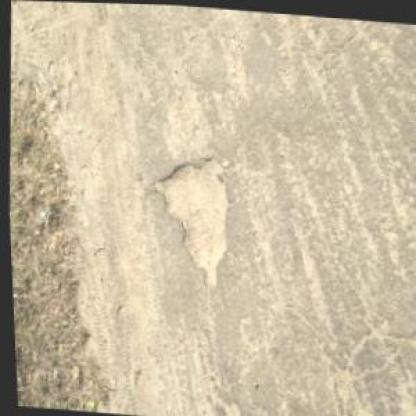pothole: (140, 147, 236, 288)
